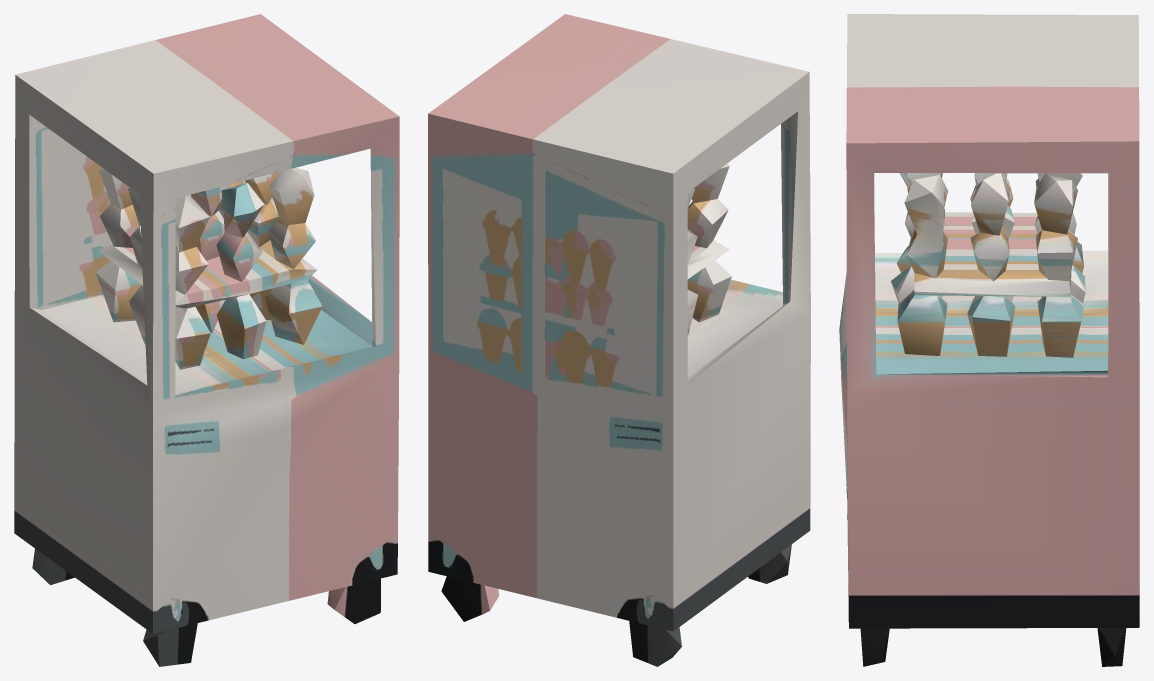
The picture shows the model from 3 angles, left to right: view 1: azimuth 30°, elevation 25°; view 2: azimuth 150°, elevation 25°; view 3: azimuth 270°, elevation 25°; orthographic projection. The views are drawn at different scales.
Parts seen in each view (by area): view 1: Decor_ice_cream_freezer; view 2: Decor_ice_cream_freezer; view 3: Decor_ice_cream_freezer.
Part boxes in pixels (x1,y1,x2,y2): Decor_ice_cream_freezer: (14,14,399,666); Decor_ice_cream_freezer: (428,14,810,666); Decor_ice_cream_freezer: (839,14,1139,666).
Size of the model in its own units: 0.4797 by 0.9465 by 0.4771.
1 material, 1 textured.
